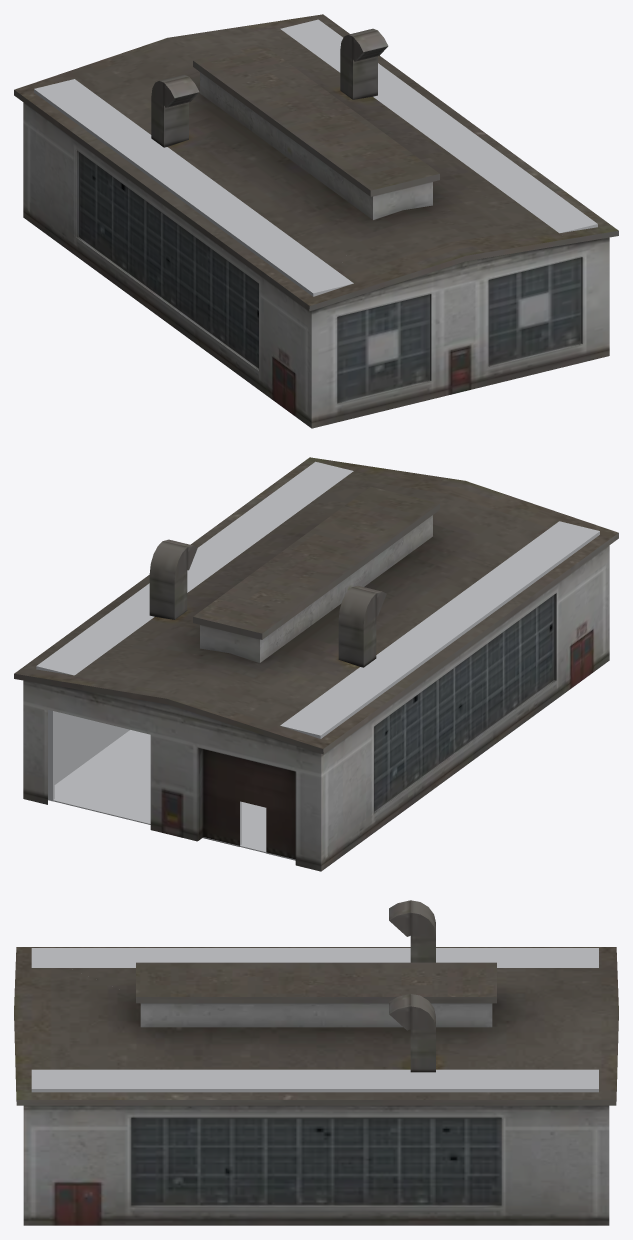
Rendered from rail-depot.zfix-v1.lod0.glb.
3 views of the same model, one above another, from view 1: azimuth 30°, elevation 25°; view 2: azimuth 150°, elevation 25°; view 3: azimuth 270°, elevation 25° (orthographic).
Visible parts, largest first — view 1: 3LOD0_UtilityBuilding3_0, Walkable floors and stairs; view 2: 3LOD0_UtilityBuilding3_0, Walkable floors and stairs; view 3: 3LOD0_UtilityBuilding3_0, Walkable floors and stairs.
Part boxes in pixels (x1,y1,x2,y2): 3LOD0_UtilityBuilding3_0: (14,14,618,428); Walkable floors and stairs: (34,19,597,296); 3LOD0_UtilityBuilding3_0: (14,457,618,871); Walkable floors and stairs: (36,461,599,860); 3LOD0_UtilityBuilding3_0: (14,900,618,1225); Walkable floors and stairs: (31,948,598,1092).
Bounding box in the file's own units: 16.32 × 9.89 × 27.2.
Materials: 2 (1 with a texture image).
